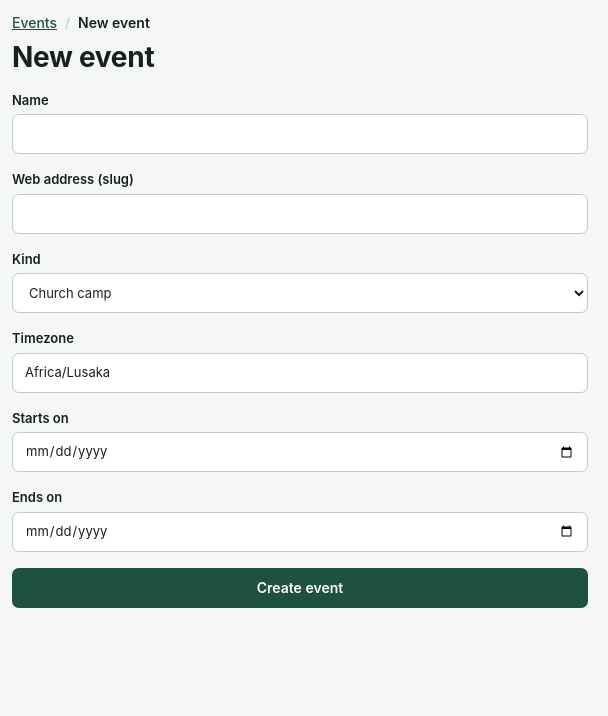
Test: EventCreatePage › refuses an end date before the start date without sending the request
This screenshot has width=608, height=716.
In the field labelled "Name": x=300, y=134 [12, 114, 588, 154], type "Camp"
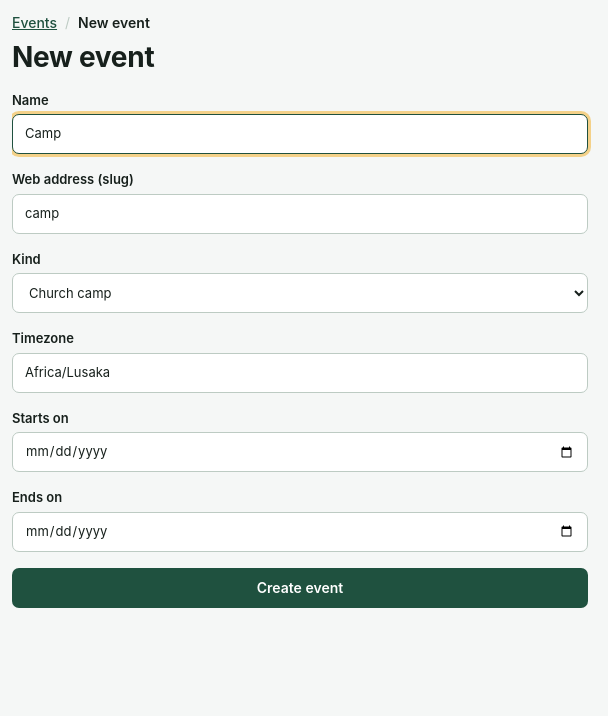
In the date field labelled "Starts on": x=300, y=452 [12, 432, 588, 472], type "2027-12-05"
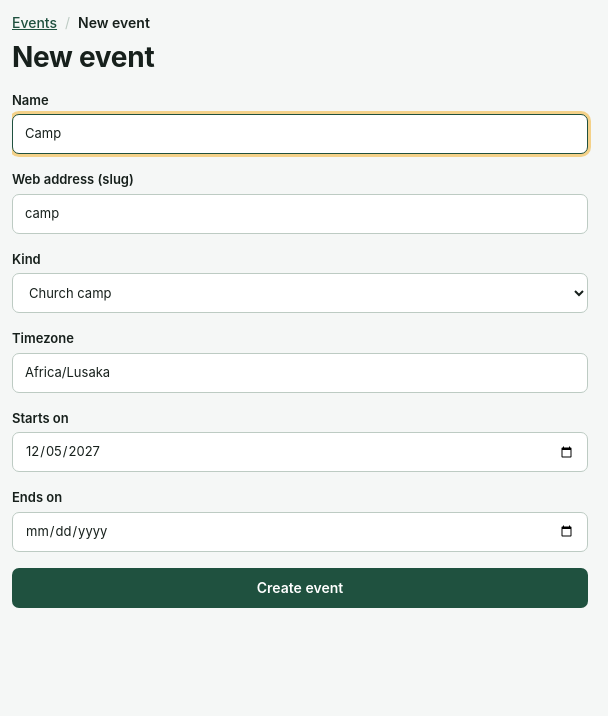
In the date field labelled "Ends on": x=300, y=532 [12, 512, 588, 552], type "2027-12-01"
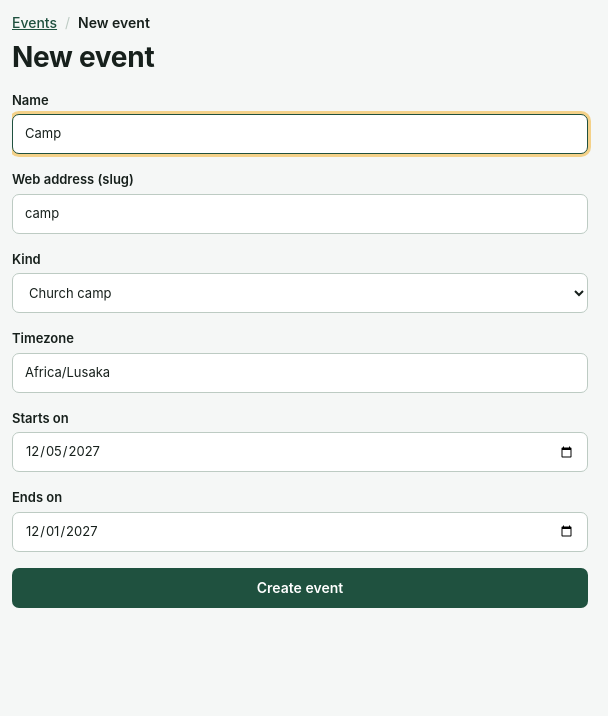
Click the button "Create event": x=300, y=588 [12, 568, 588, 608]
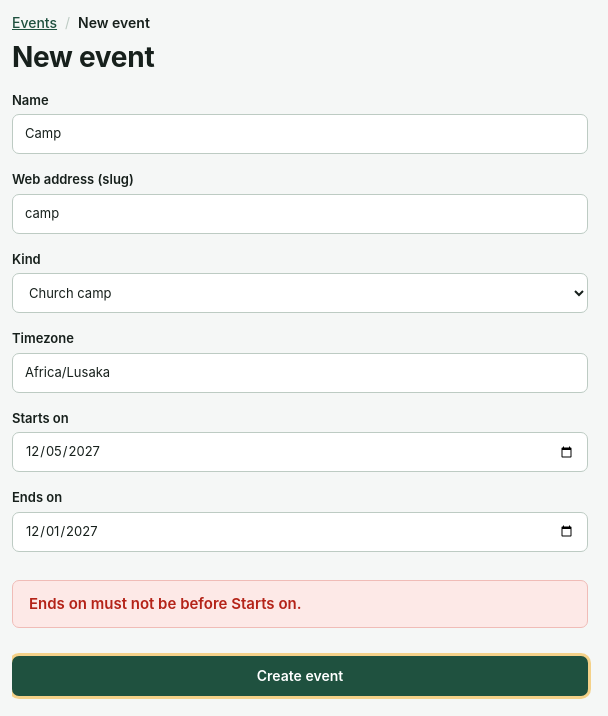
Check: the message reads "Ends on must not be before Starts on.", box [29, 594, 302, 613]
